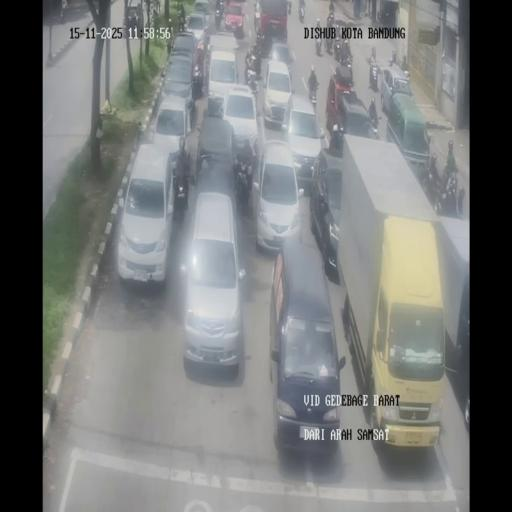car: (268, 240, 341, 451), (180, 192, 244, 371), (118, 144, 178, 286), (282, 93, 324, 187), (310, 148, 340, 278), (152, 94, 192, 174), (194, 113, 236, 186), (262, 59, 294, 129), (206, 49, 239, 114), (379, 65, 413, 117), (258, 0, 289, 47), (184, 11, 210, 47), (223, 0, 246, 38), (125, 1, 143, 34)
motorcycle: (314, 9, 351, 69), (234, 143, 256, 207), (191, 48, 205, 97), (421, 159, 434, 194), (434, 181, 447, 215), (246, 70, 260, 100), (440, 160, 452, 192), (368, 109, 380, 137), (369, 60, 379, 92), (253, 44, 262, 78), (244, 47, 254, 75), (344, 54, 354, 81), (325, 31, 335, 55), (326, 9, 335, 34), (254, 9, 262, 35), (309, 87, 318, 110), (334, 37, 342, 62), (214, 8, 223, 30), (314, 34, 322, 56), (298, 2, 306, 22), (178, 14, 186, 32), (401, 54, 409, 72), (389, 48, 397, 66), (335, 21, 341, 40), (286, 0, 292, 15), (376, 9, 381, 24), (253, 0, 258, 14)
truck: (334, 138, 458, 448), (446, 266, 470, 438), (379, 0, 400, 28)
